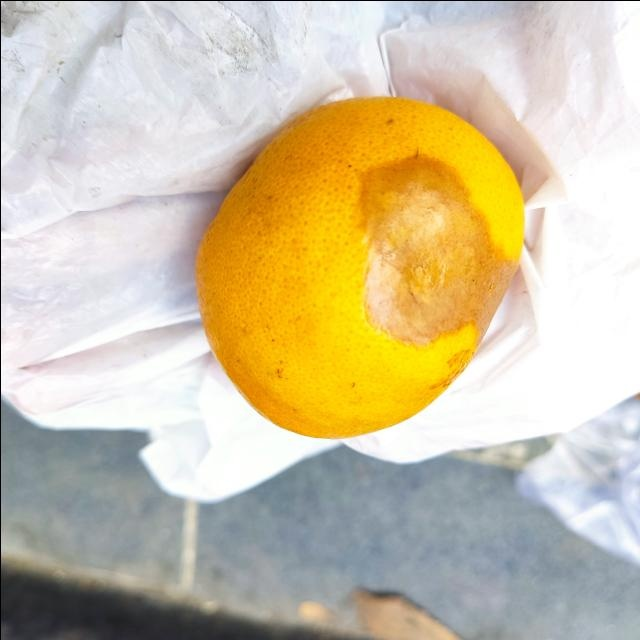agrume: (193, 93, 527, 439)
